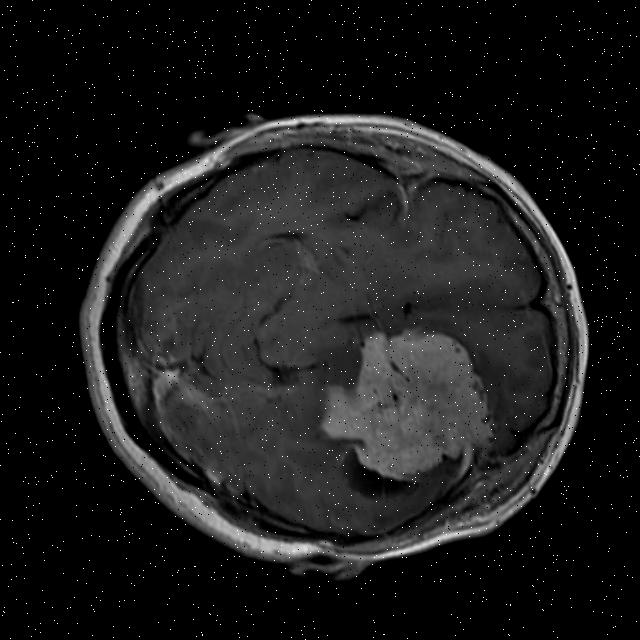Meningioma: (294, 306, 512, 511)
